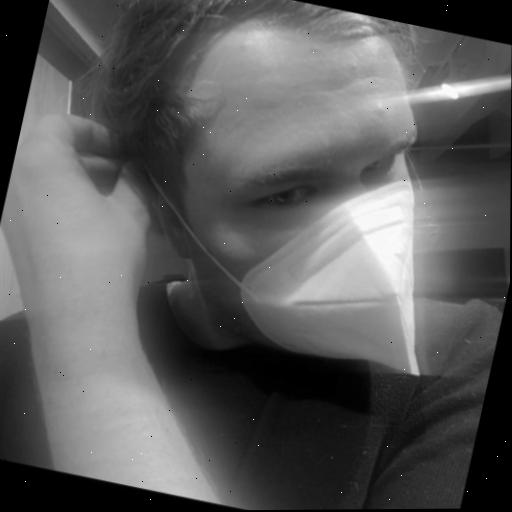mask: (59, 0, 497, 390)
